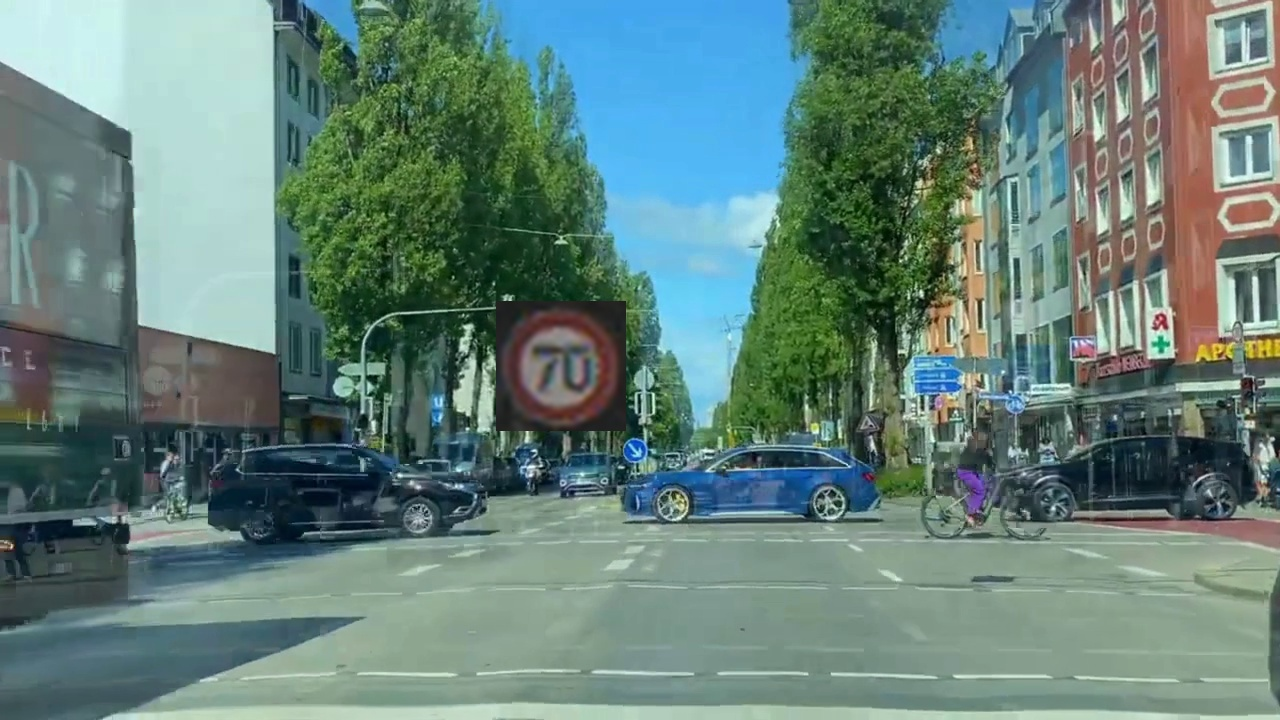Speed 70: (496, 301, 626, 431)
